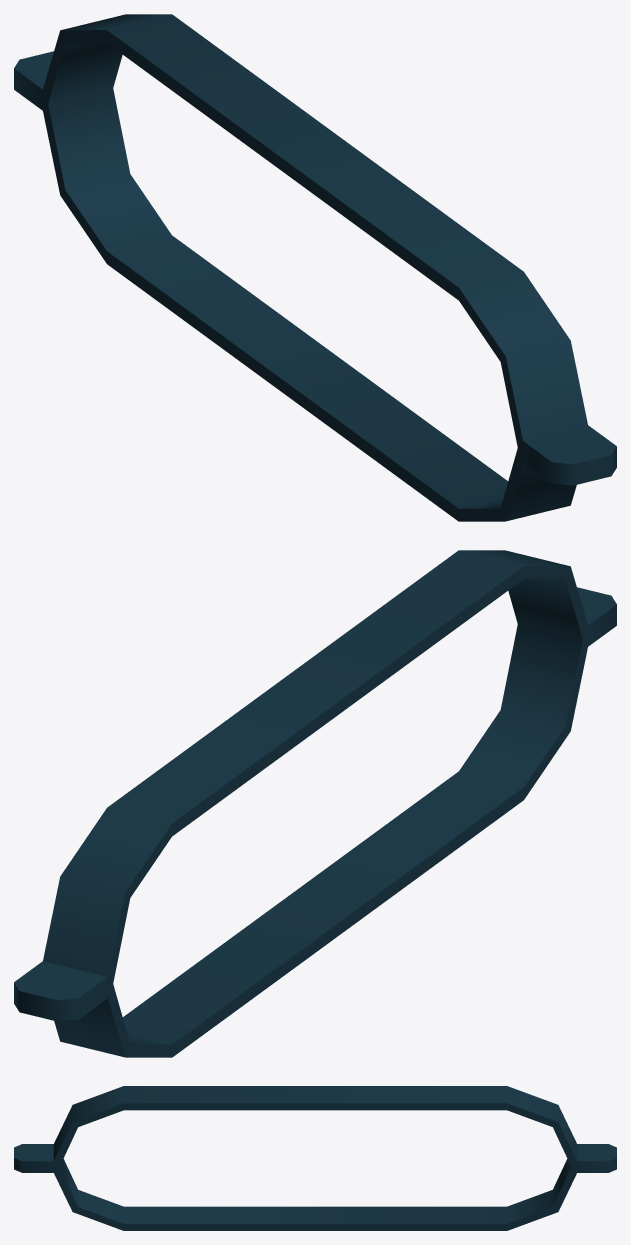
Rendered from PipeHolder_Ring01Long_Small.fbx.
3 renders of one model, top to bottom at view 1: azimuth 30°, elevation 25°; view 2: azimuth 150°, elevation 25°; view 3: azimuth 270°, elevation 25°, orthographic. The views are drawn at different scales.
Visible parts, largest first — view 1: PipeHolder_Ring01Long_Small.001; view 2: PipeHolder_Ring01Long_Small.001; view 3: PipeHolder_Ring01Long_Small.001.
Part boxes in pixels (box(x1,y1,x2,y2)): PipeHolder_Ring01Long_Small.001: box(14, 14, 616, 521); PipeHolder_Ring01Long_Small.001: box(14, 550, 616, 1057); PipeHolder_Ring01Long_Small.001: box(14, 1086, 616, 1230).
Size of the model in its own units: 0.032 by 0.1101 by 0.4716.
